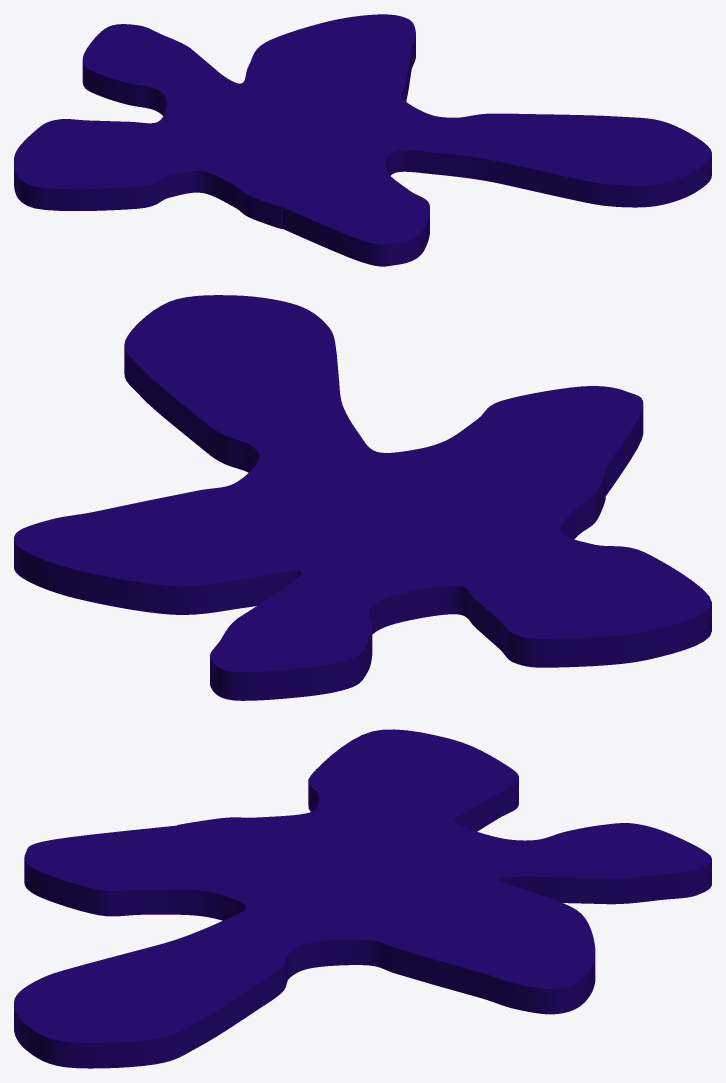
The model's file is Trace2.FBX.
3 views of the same model, one above another, from view 1: azimuth 30°, elevation 25°; view 2: azimuth 150°, elevation 25°; view 3: azimuth 270°, elevation 25° (orthographic). The views are drawn at different scales.
Parts seen in each view (by area): view 1: Plama2; view 2: Plama2; view 3: Plama2.
Boxes of the visible parts, x1=… form: Plama2: x1=14, y1=14, x2=711, y2=266; Plama2: x1=14, y1=295, x2=711, y2=700; Plama2: x1=14, y1=729, x2=711, y2=1068.
Size of the model in its own units: 1865 by 1755 by 70.8.
